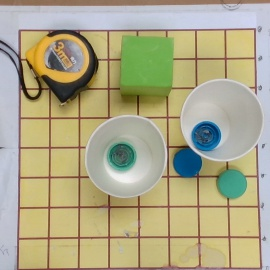blue: (173, 149, 203, 177)
cup_blue: (180, 79, 265, 163)
cup_green: (84, 115, 169, 199)
green: (215, 169, 248, 199)
